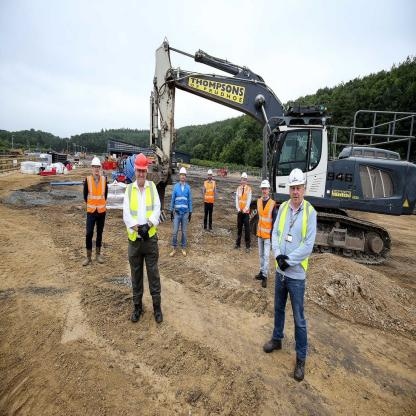excavator: (122, 27, 416, 271)
person: (272, 162, 322, 378), (121, 147, 164, 323), (80, 149, 108, 273), (166, 156, 194, 260), (255, 167, 274, 290), (232, 160, 251, 256), (199, 154, 216, 241)
